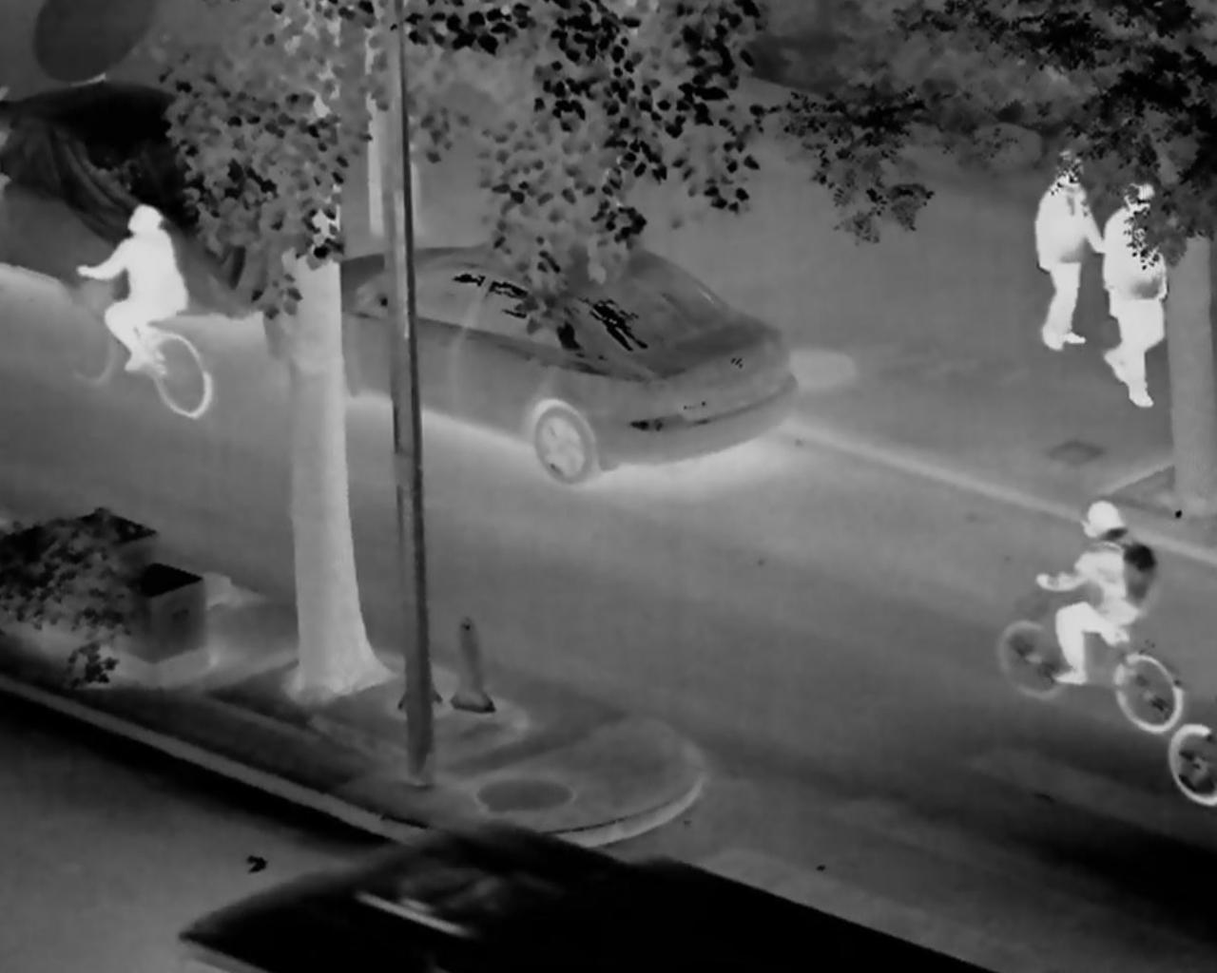person: (1040, 498, 1150, 688), (76, 202, 187, 374), (1101, 178, 1173, 410), (1033, 149, 1106, 351)
